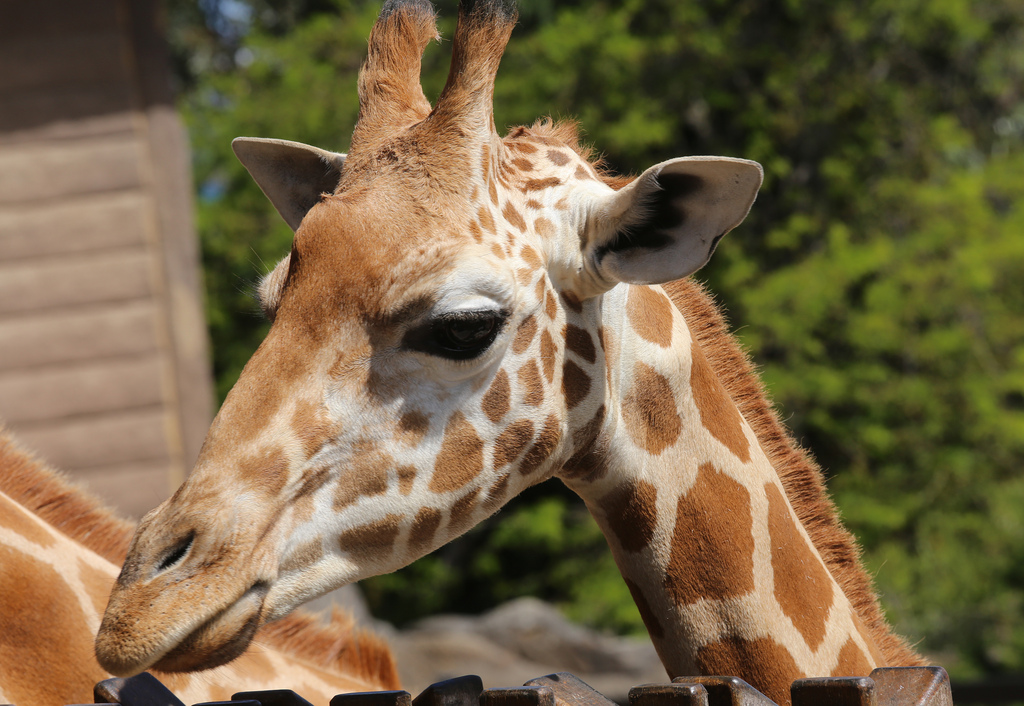giraffe: (68, 30, 917, 706)
